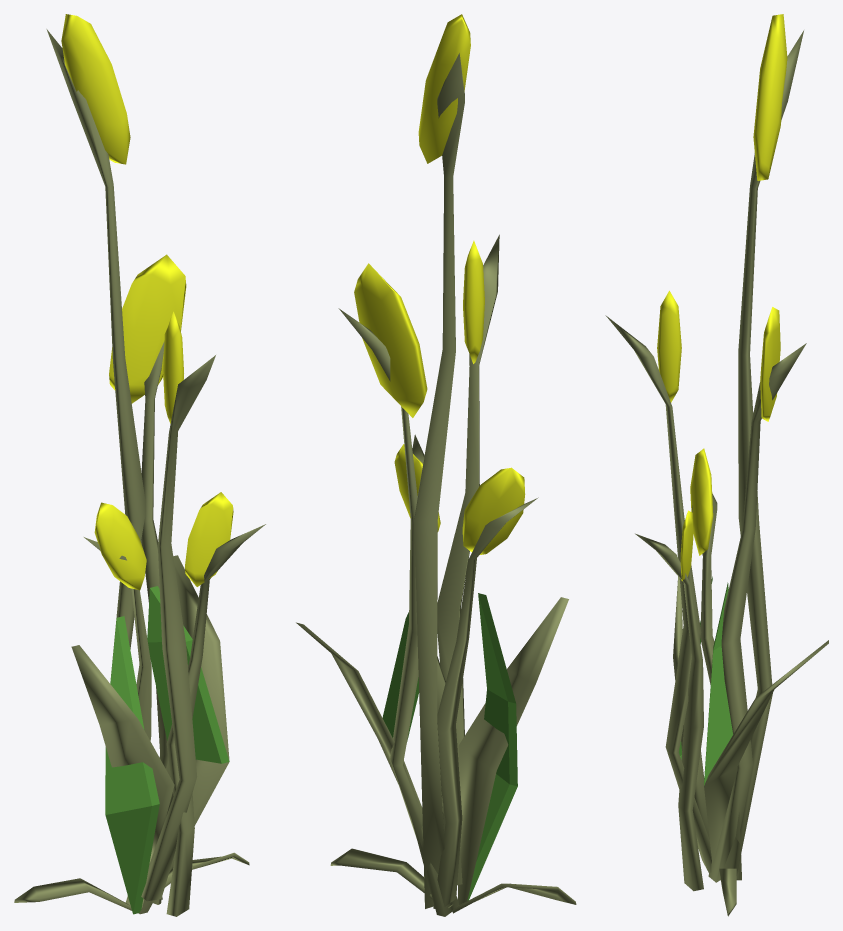
Rendered from Segale.fbx.
3 renders of one model, left to right at view 1: azimuth 30°, elevation 25°; view 2: azimuth 150°, elevation 25°; view 3: azimuth 270°, elevation 25°, orthographic. The views are drawn at different scales.
Parts seen in each view (by area): view 1: Segale3, Segale, Cube.002, Cube.004, Cube.003, Cube.005, Cube.001; view 2: Segale3, Segale, Cube.002, Cube.004, Cube.003, Cube.001, Cube.005; view 3: Segale3, Cube.004, Segale, Cube.001, Cube.003, Cube.002, Cube.005.
Part boxes in pixels (x1,y1,x2,y2): Segale3: (14,29,265,916); Segale: (105,586,229,914); Cube.002: (109,254,186,403); Cube.004: (61,14,130,164); Cube.003: (94,502,146,590); Cube.005: (184,492,233,586); Cube.001: (163,311,183,423); Segale3: (296,53,576,916); Segale: (382,593,517,900); Cube.002: (354,263,427,417); Cube.004: (418,14,470,163); Cube.003: (462,467,525,554); Cube.001: (463,240,484,363); Cube.005: (394,444,440,531); Segale3: (605,30,828,916); Cube.004: (753,14,787,180); Segale: (678,576,733,785); Cube.001: (657,290,681,402); Cube.003: (690,448,713,555); Cube.002: (760,307,780,421); Cube.005: (680,510,693,581).
Size of the model in its own units: 27.51 by 98.85 by 23.67.
